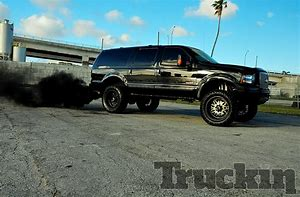smoke: (1, 66, 101, 109)
